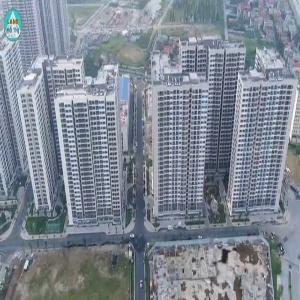drone: (190, 224, 260, 294)
